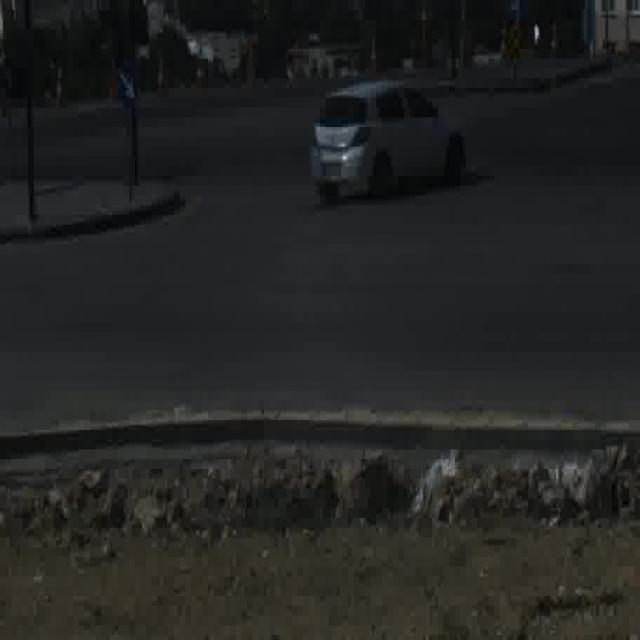Car: (307, 78, 466, 208)
